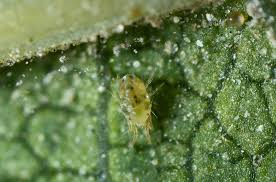Mites: (114, 69, 164, 142)
